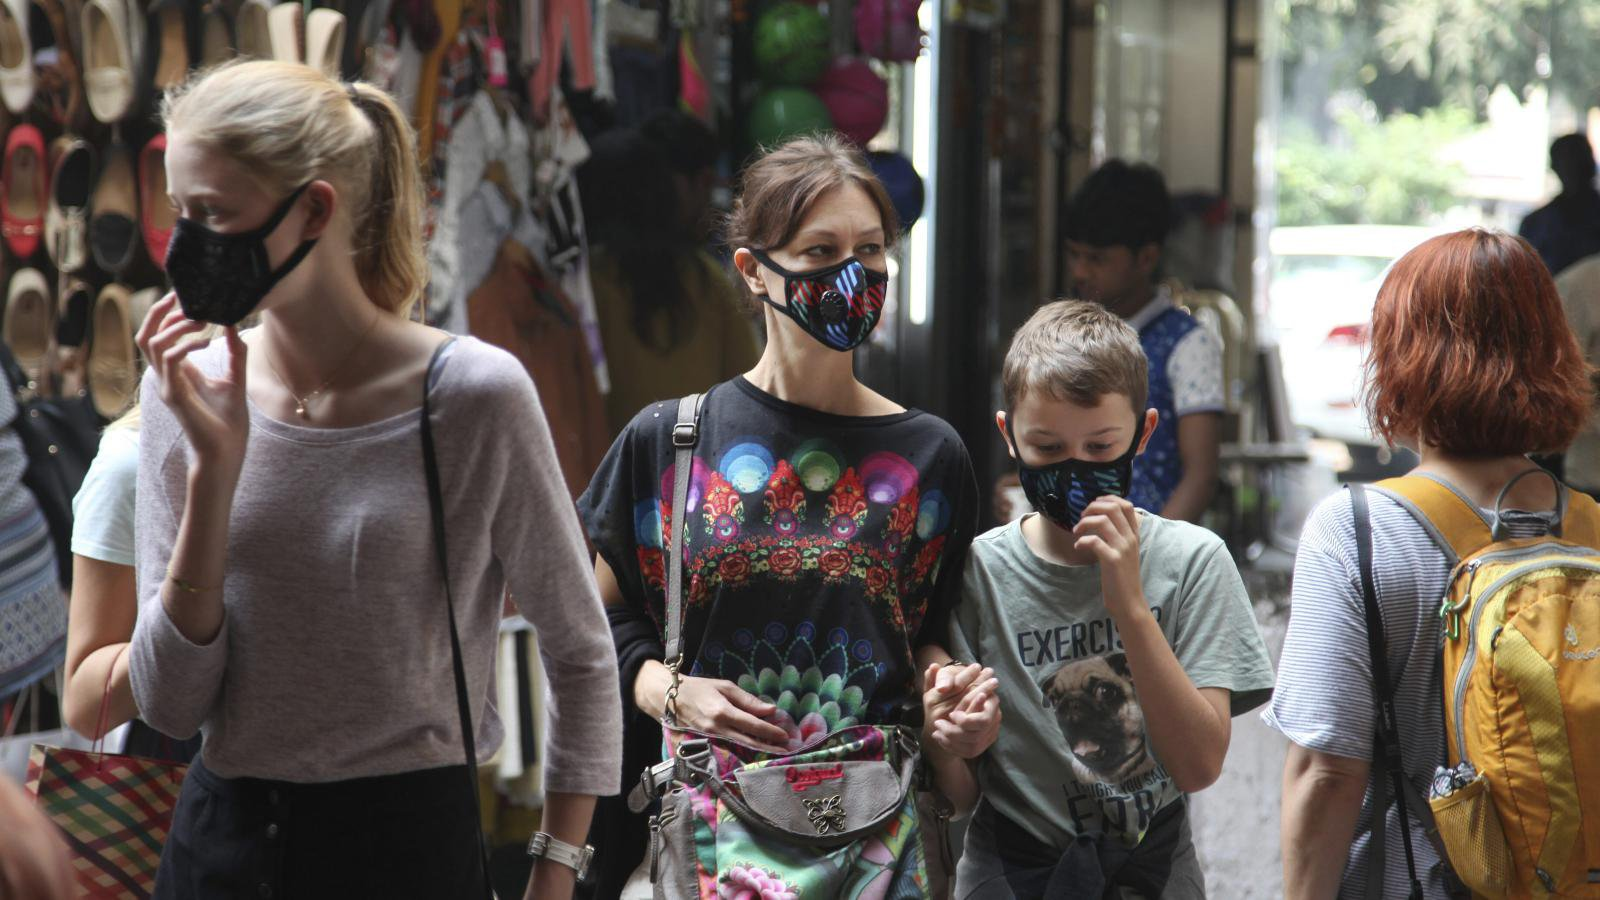mask: (116, 62, 401, 331), (698, 132, 926, 355), (979, 296, 1174, 521)
